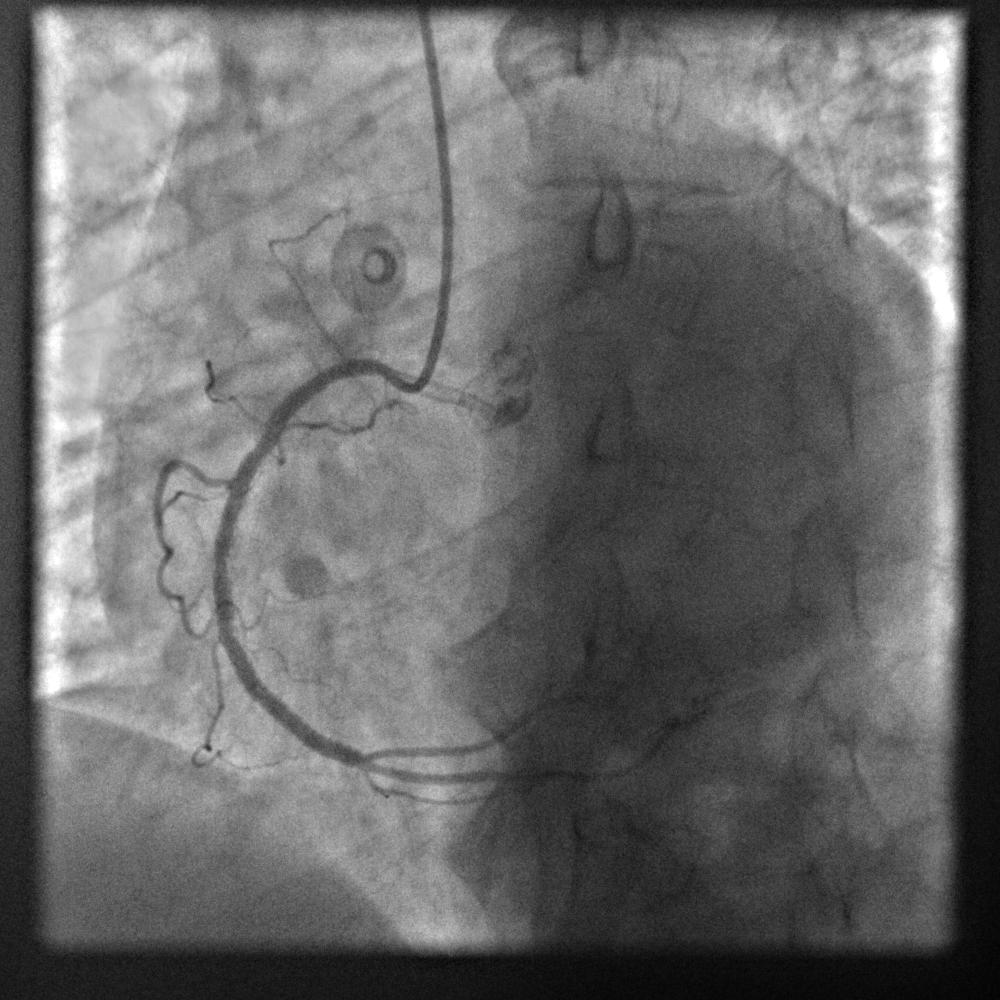Stenosis: (242, 418, 279, 474)
